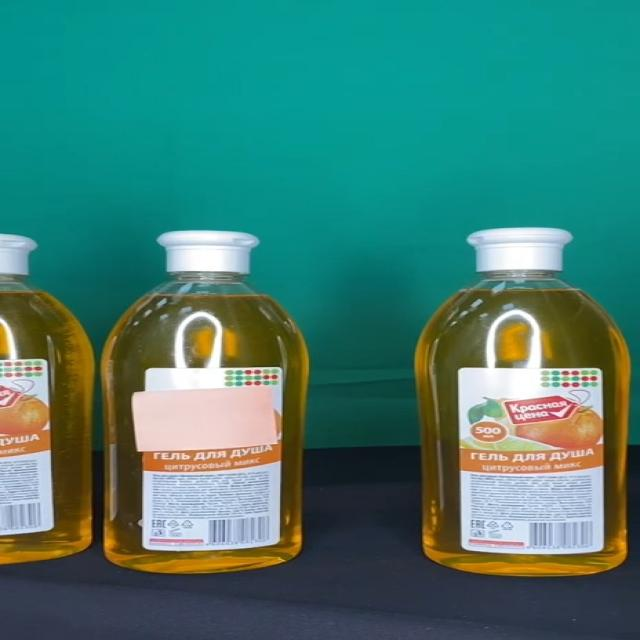Bottle: (417, 228, 632, 576), (103, 230, 310, 572)
Cap: (468, 228, 573, 272), (156, 230, 259, 274)
